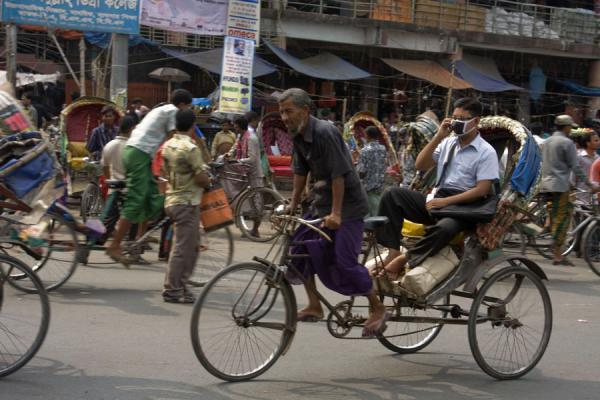Rickshaw: (231, 84, 546, 380), (0, 89, 64, 275), (49, 90, 130, 197), (346, 101, 398, 200), (258, 100, 303, 199)
